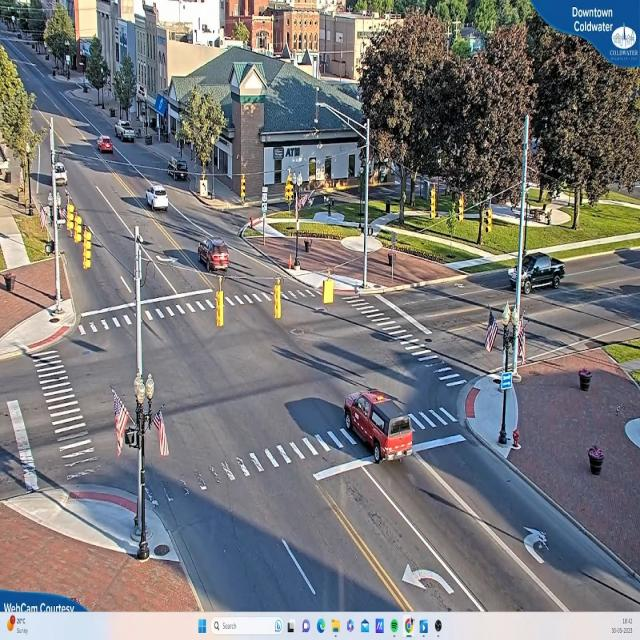car: (345, 390, 414, 460), (507, 255, 566, 295), (196, 235, 231, 266), (145, 182, 171, 216), (117, 122, 137, 145), (97, 134, 113, 154)
